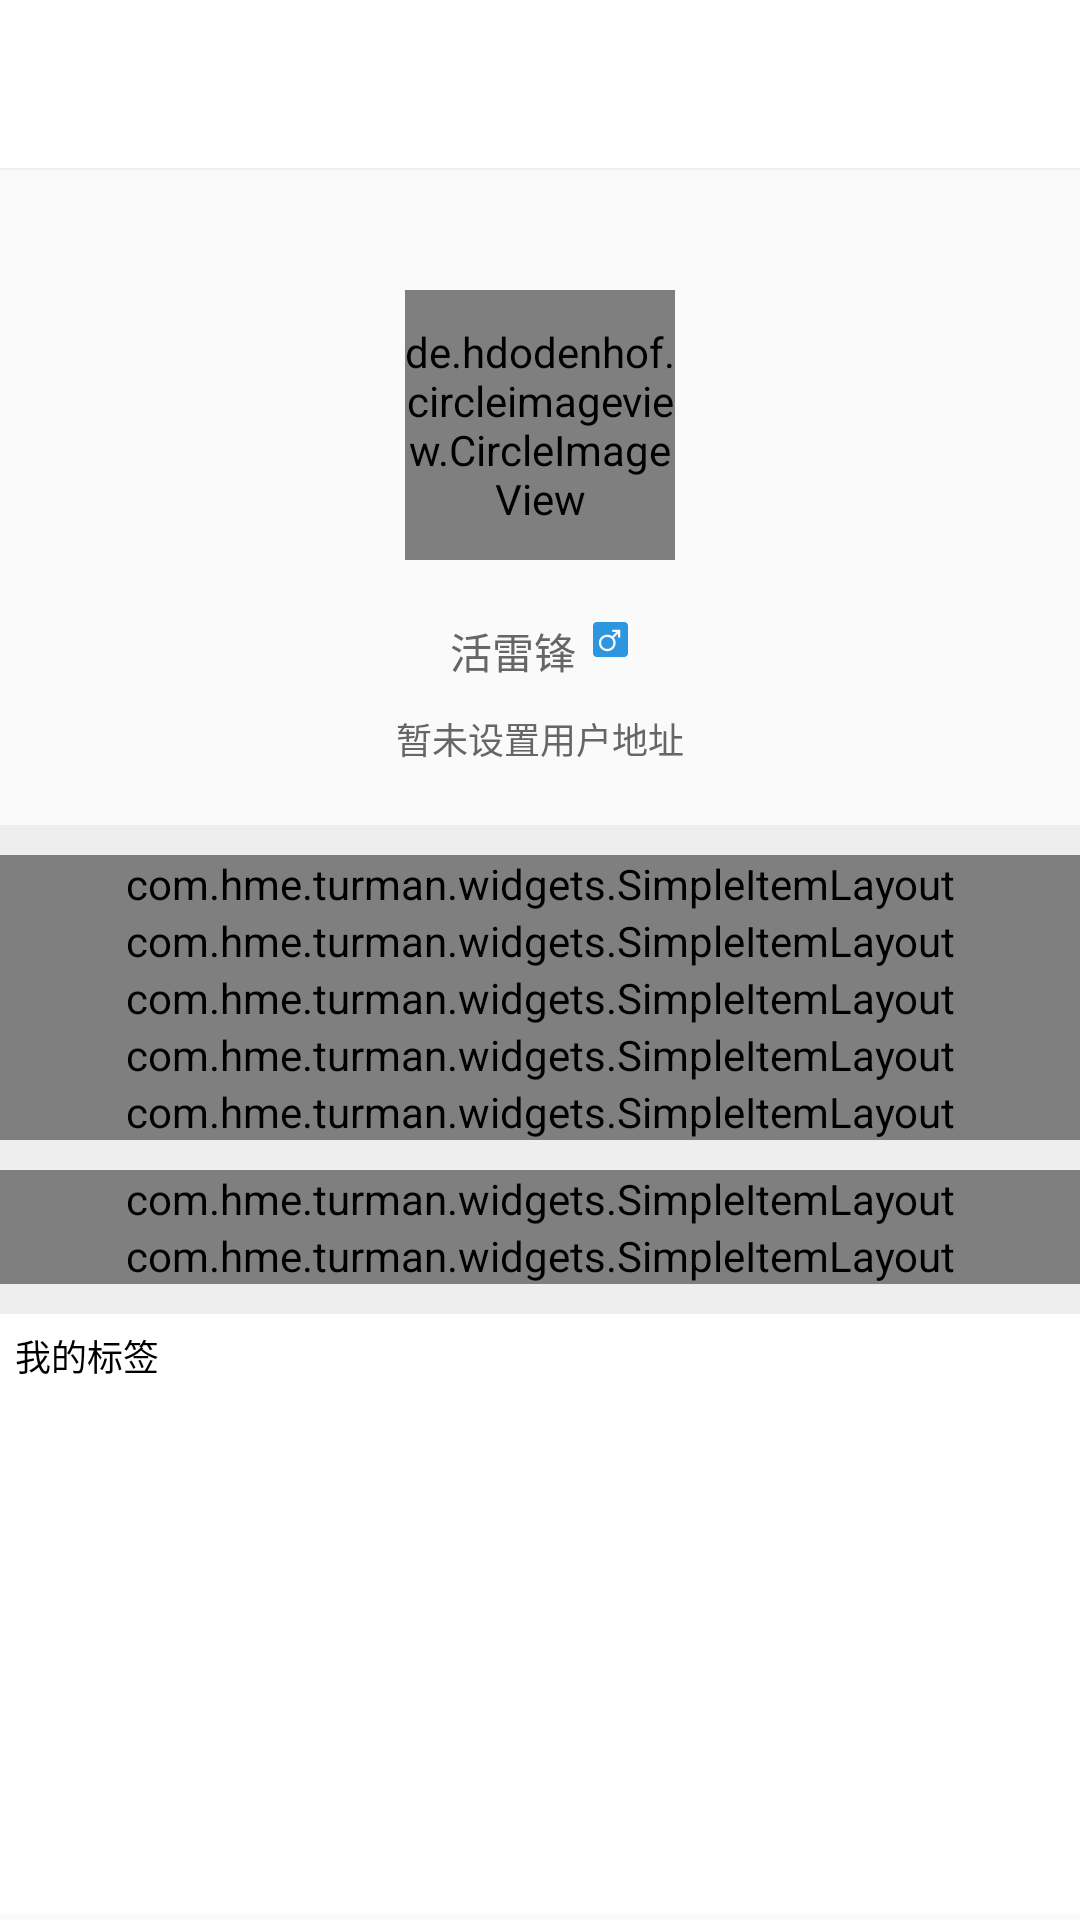

Screen size 1080px x 1920px. Icon name, then its center in pixels as (x=x, y=y):
male: (x=610, y=639)
